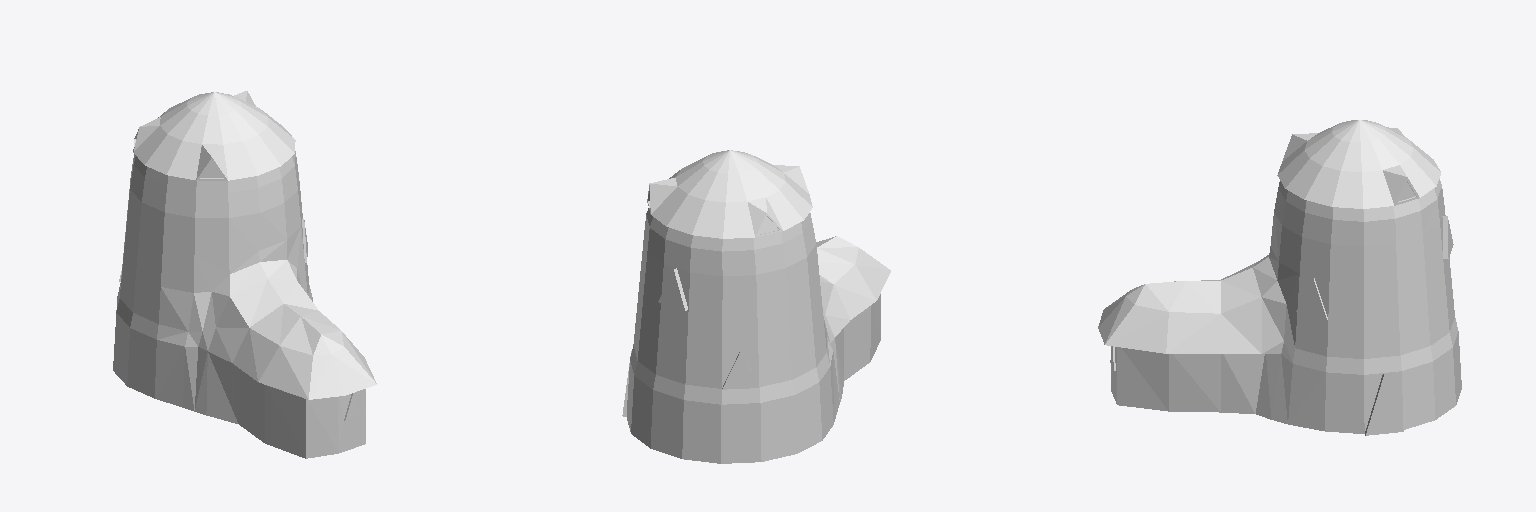
The model's file is BigHouse.obj.
3 views of the same model, side by side, from view 1: azimuth 30°, elevation 25°; view 2: azimuth 150°, elevation 25°; view 3: azimuth 270°, elevation 25° (orthographic).
Visible parts, largest first — view 1: Cylinder; view 2: Cylinder; view 3: Cylinder.
Part boxes in pixels (bbox=[...]): Cylinder: bbox=[113, 91, 376, 458]; Cylinder: bbox=[622, 150, 890, 463]; Cylinder: bbox=[1098, 120, 1461, 435].
Size of the model in its own units: 3.06 by 4.32 by 5.26.